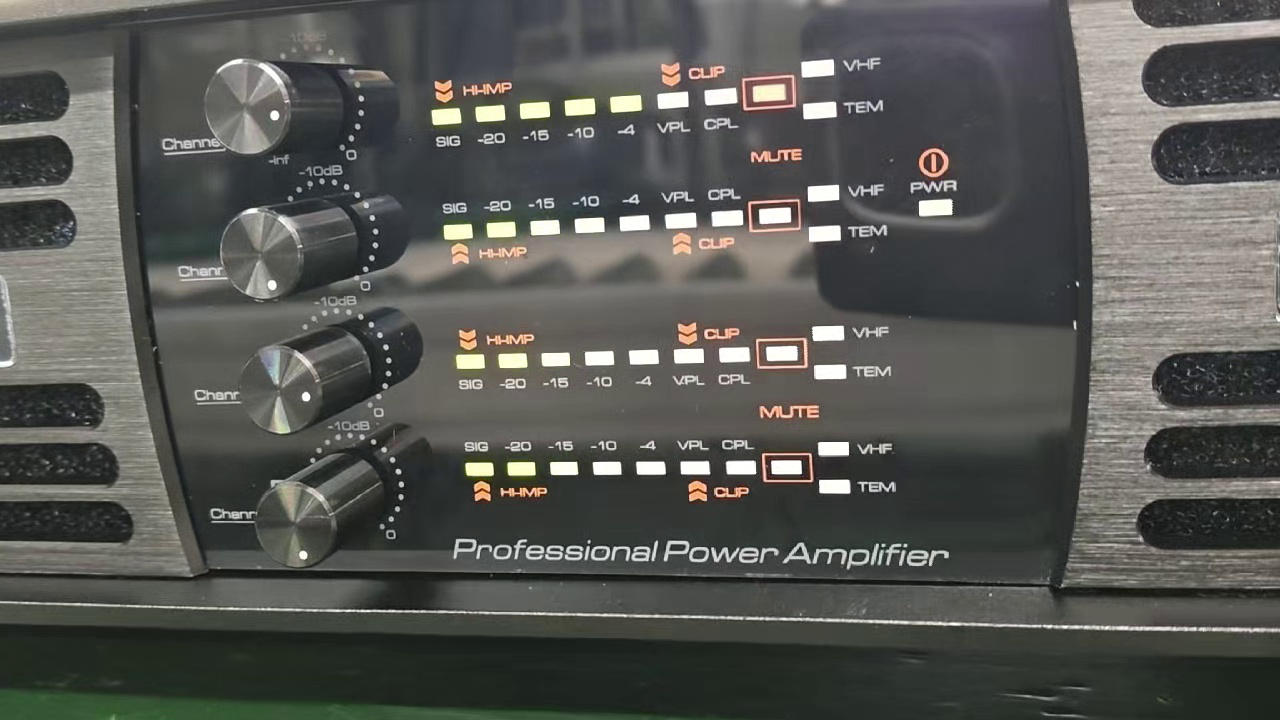FP_CPL: (705, 184, 748, 238), (719, 428, 760, 482), (701, 82, 740, 138), (715, 342, 753, 393)
FP_PWR: (907, 176, 962, 224)
FP_PWR_area: (903, 140, 964, 229)
FP_SIG_area: (424, 51, 896, 152), (435, 180, 890, 268), (454, 429, 900, 510), (449, 320, 900, 393)
FP_VPL: (654, 84, 695, 143), (674, 429, 715, 481), (661, 184, 699, 236), (670, 343, 705, 392)
